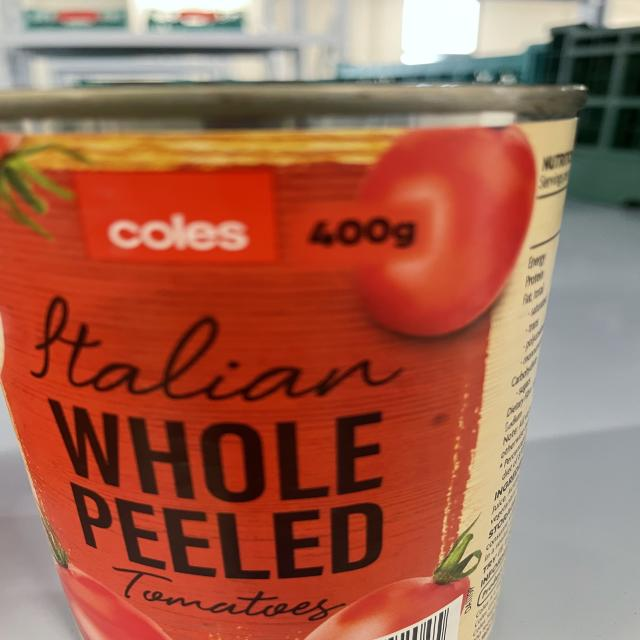object_name: (8, 92, 544, 640)
